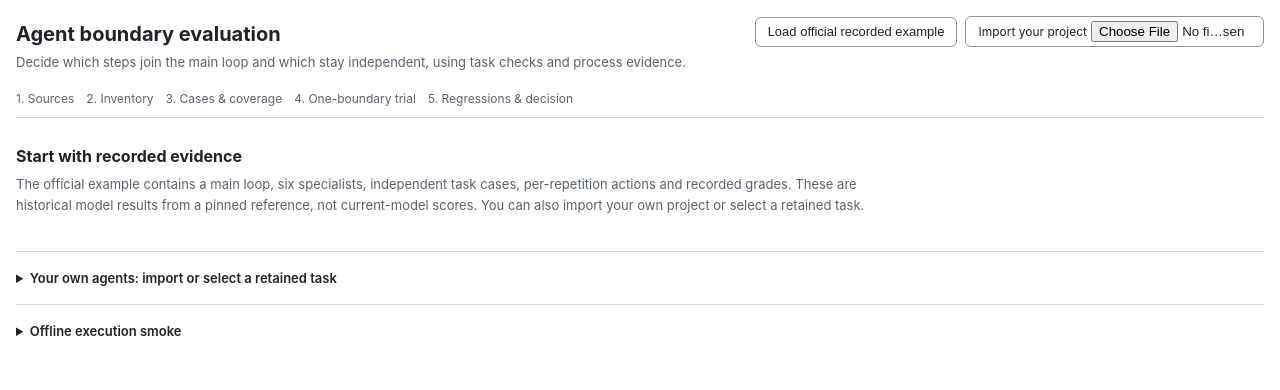
it: owns a ten-second metadata deadline and aborts both example reads without polling
Click the button "Load official recorded example" at (856, 32), box [755,16,957,46]
Wait 10001 ms
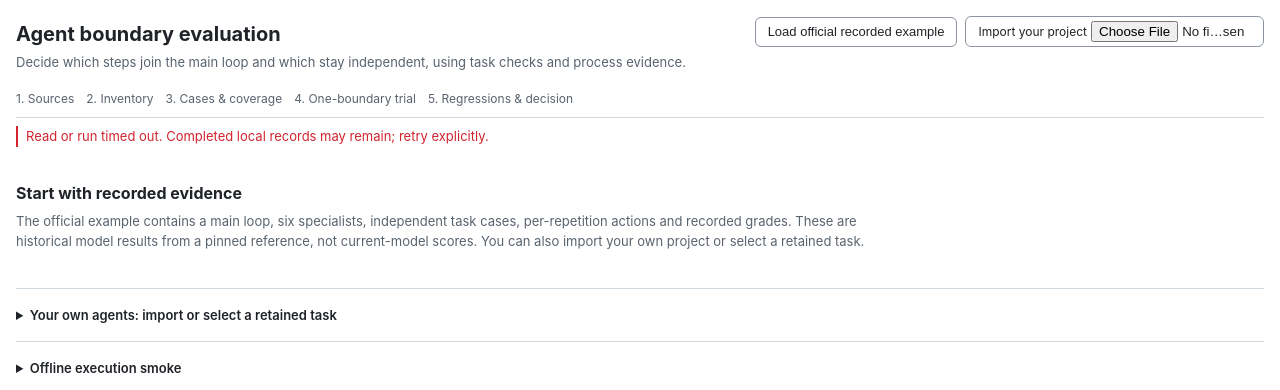
Now the message "Read or run timed out. Completed local records may remain; retry explicitly." is shown, box [16,126,1264,147]
